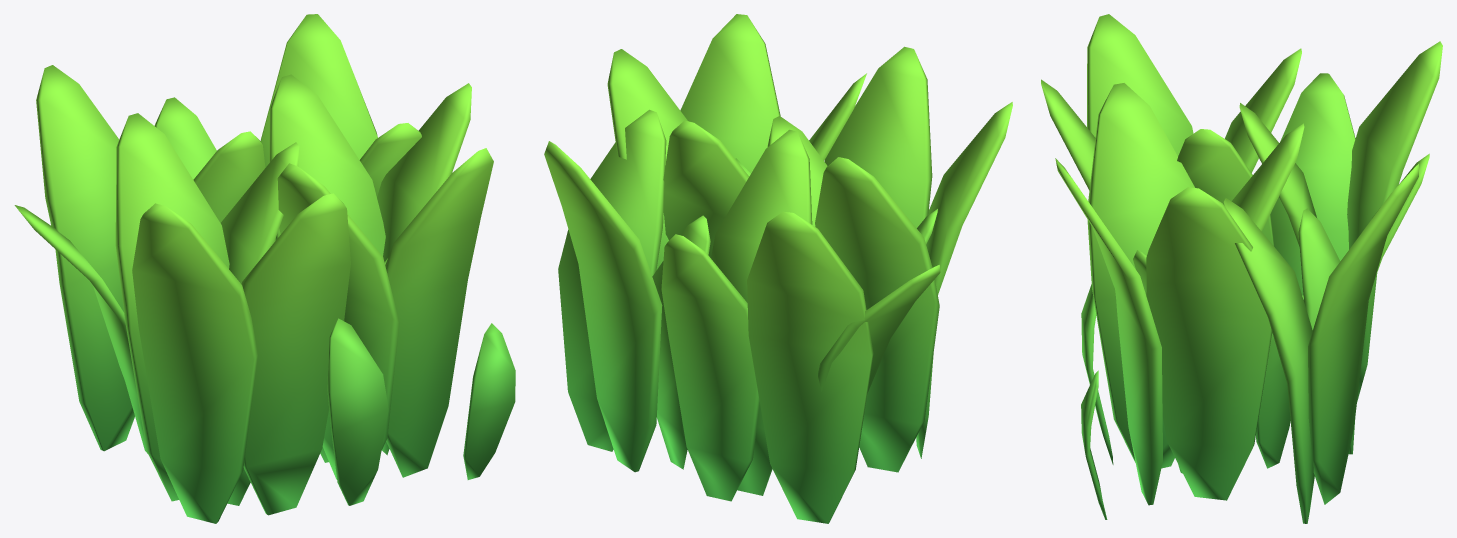
The model's file is Grass_A.fbx.
3 views of the same model, side by side, from view 1: azimuth 30°, elevation 25°; view 2: azimuth 150°, elevation 25°; view 3: azimuth 270°, elevation 25° (orthographic).
Visible parts, largest first — view 1: Grass_A; view 2: Grass_A; view 3: Grass_A.
Boxes of the visible parts, x1,y1,x2,y2 form: Grass_A: (14,14,515,523); Grass_A: (544,14,1012,523); Grass_A: (1041,14,1442,523).
Size of the model in its own units: 174 by 147 by 153.
